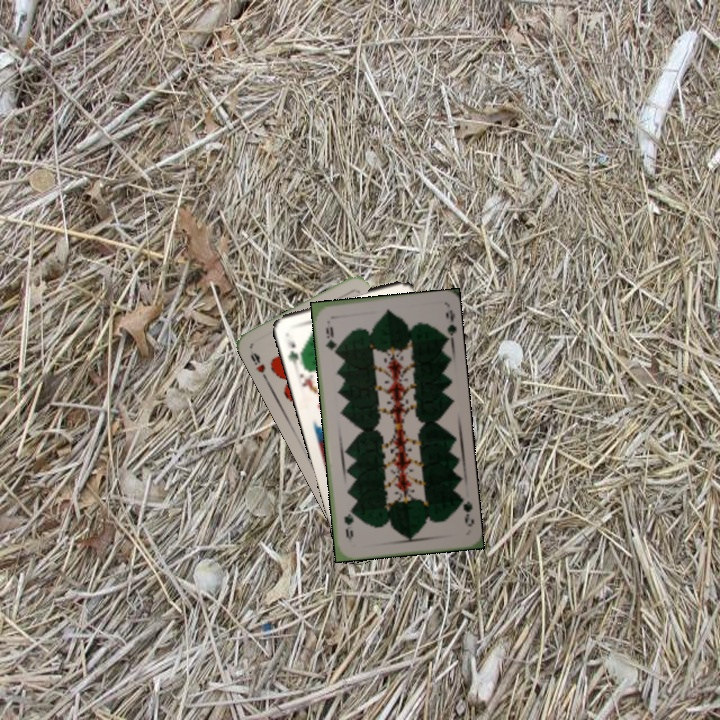G9: (455, 493, 477, 529), (321, 323, 339, 356)
GK: (284, 336, 305, 367)
H9: (246, 346, 271, 384)
